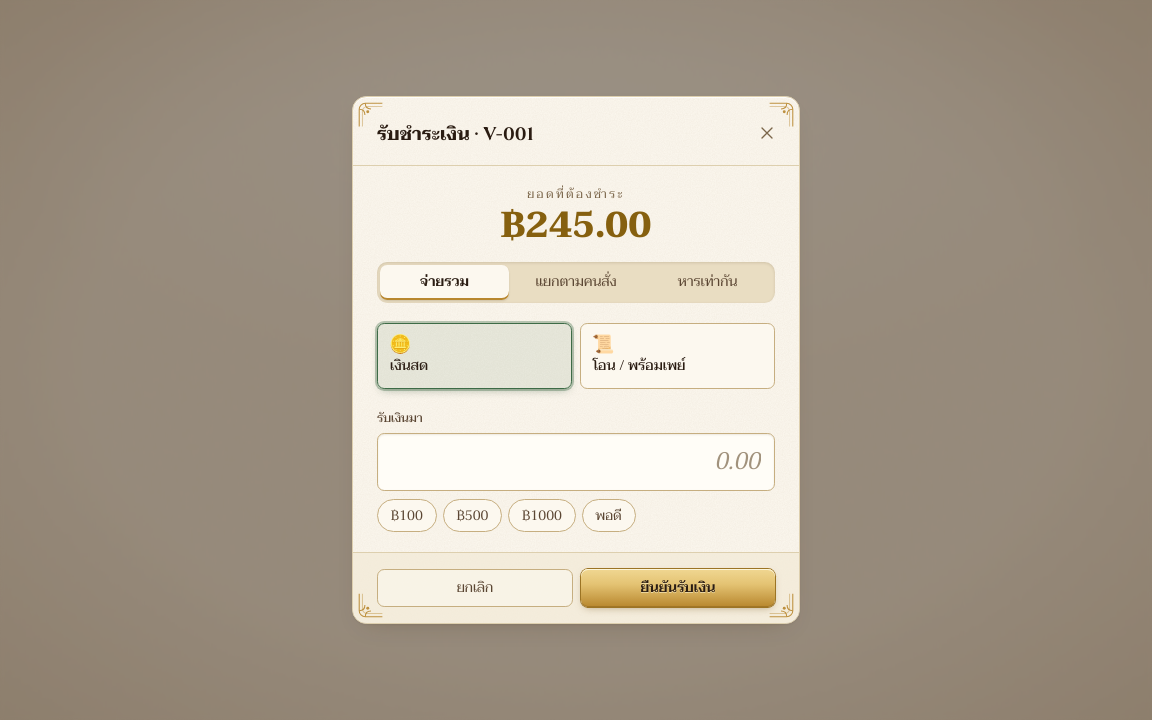
it: หน้ารับชำระเงิน › แยกบิลแล้วต้องกดรับเงินครบทุกคนก่อนจึงยืนยันได้
Click the button "แยกตามคนสั่ง".
click(576, 282)  # box [512,265,640,300]
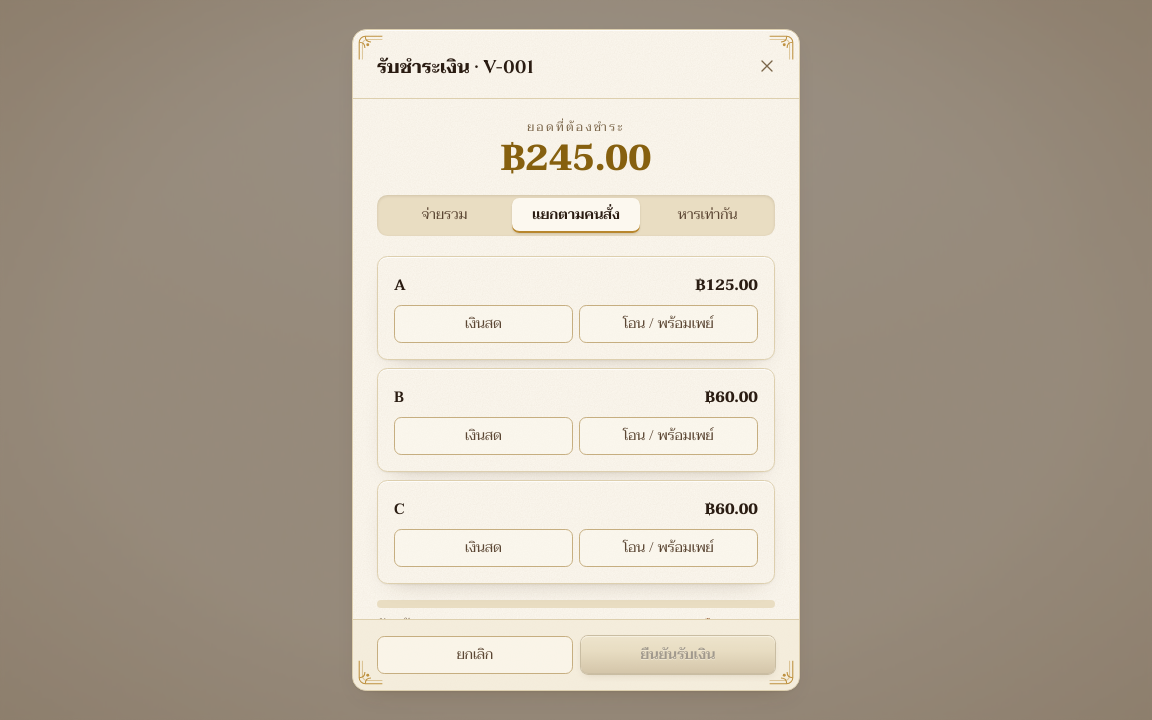
Check: the button "ยืนยันรับเงิน" is disabled, box [581,636,775,674]
Click the button "เงินสด" below "125.00".
click(484, 324)  # box [394,305,573,343]
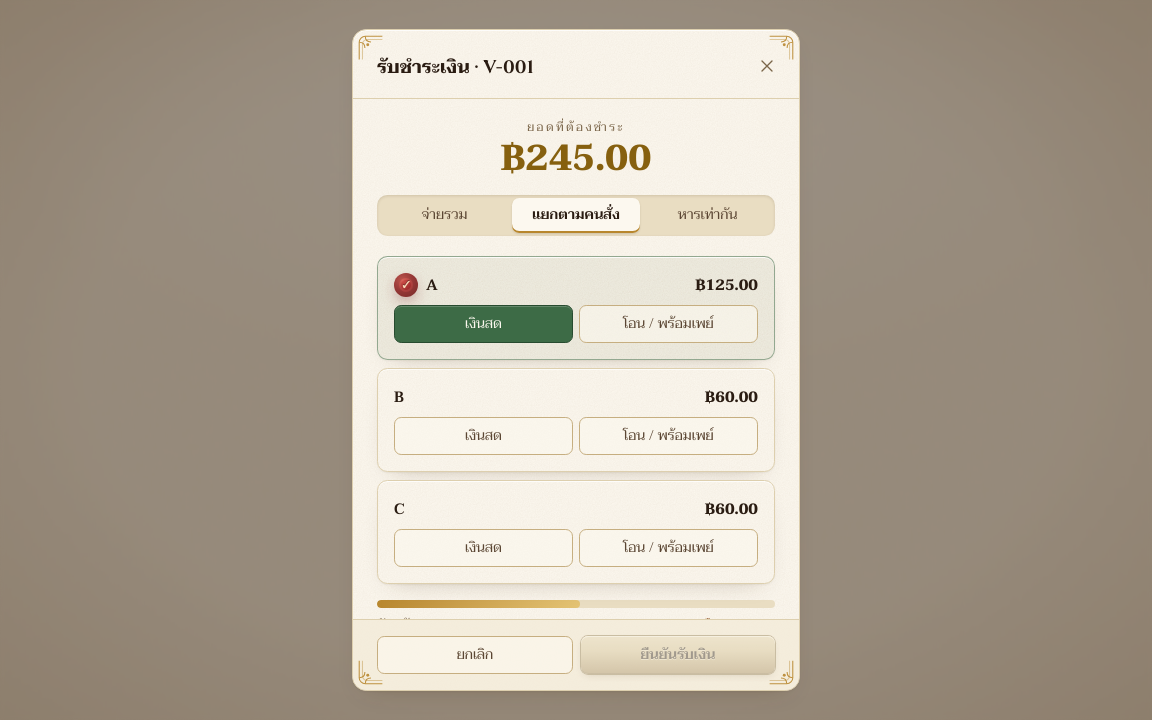
Click the 2nd button "เงินสด".
click(484, 436)  # box [394,417,573,455]
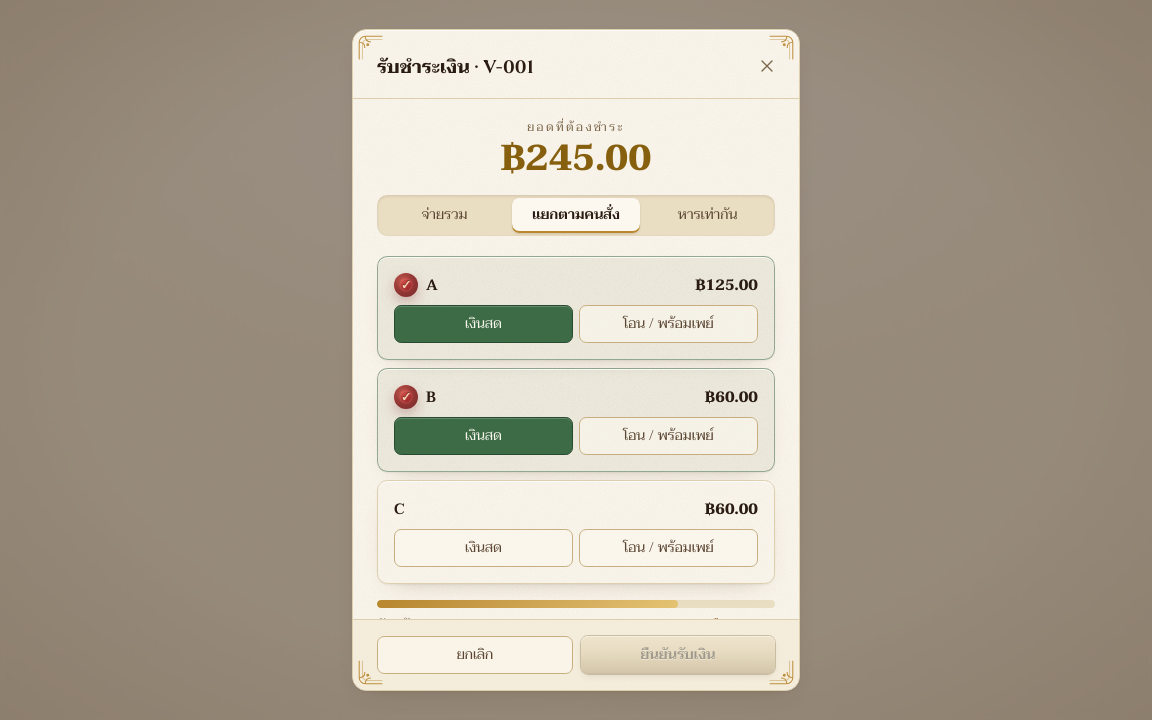
Click the 3rd button "เงินสด".
click(484, 548)  # box [394,529,573,567]
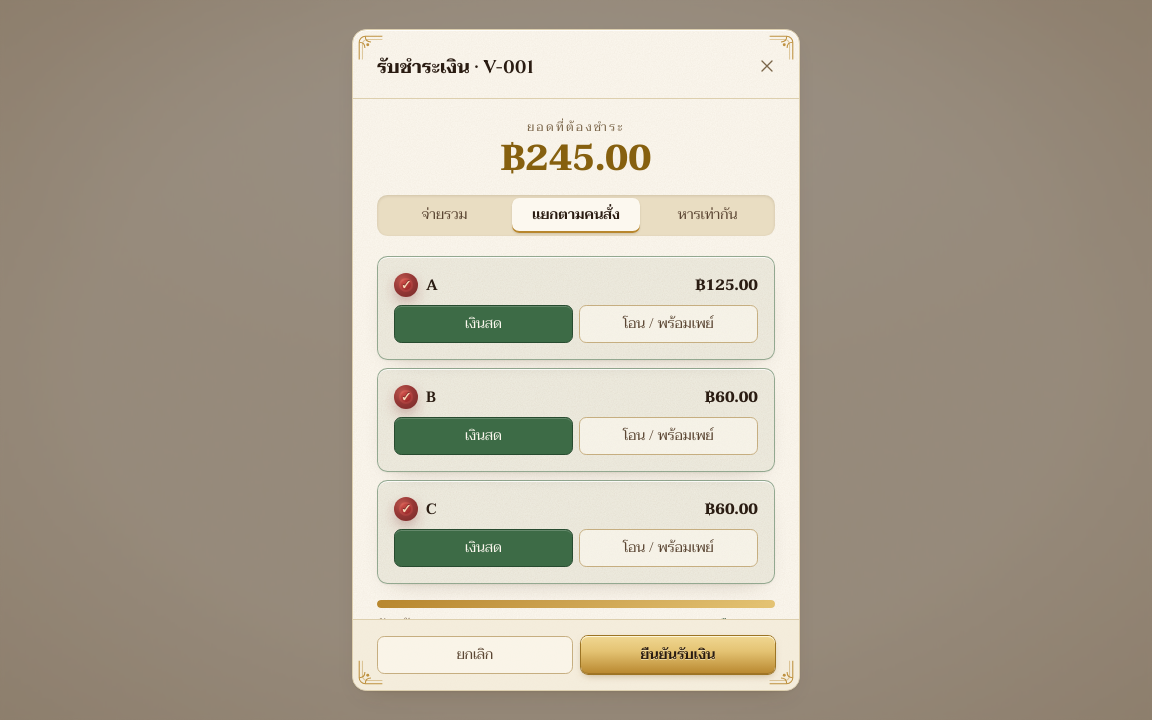
Check: the button "ยืนยันรับเงิน" is enabled, box [581,636,775,674]
